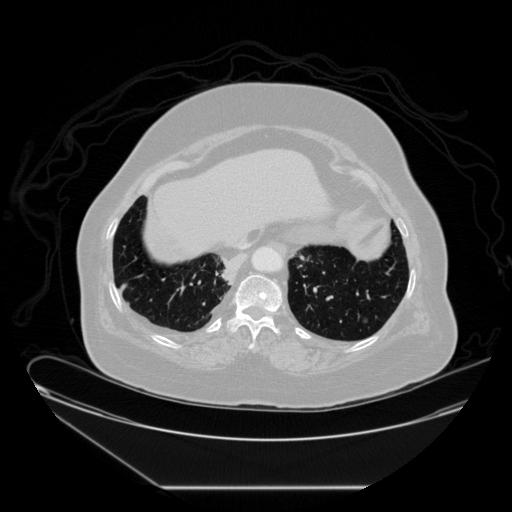nodule: (361, 316, 370, 325)
